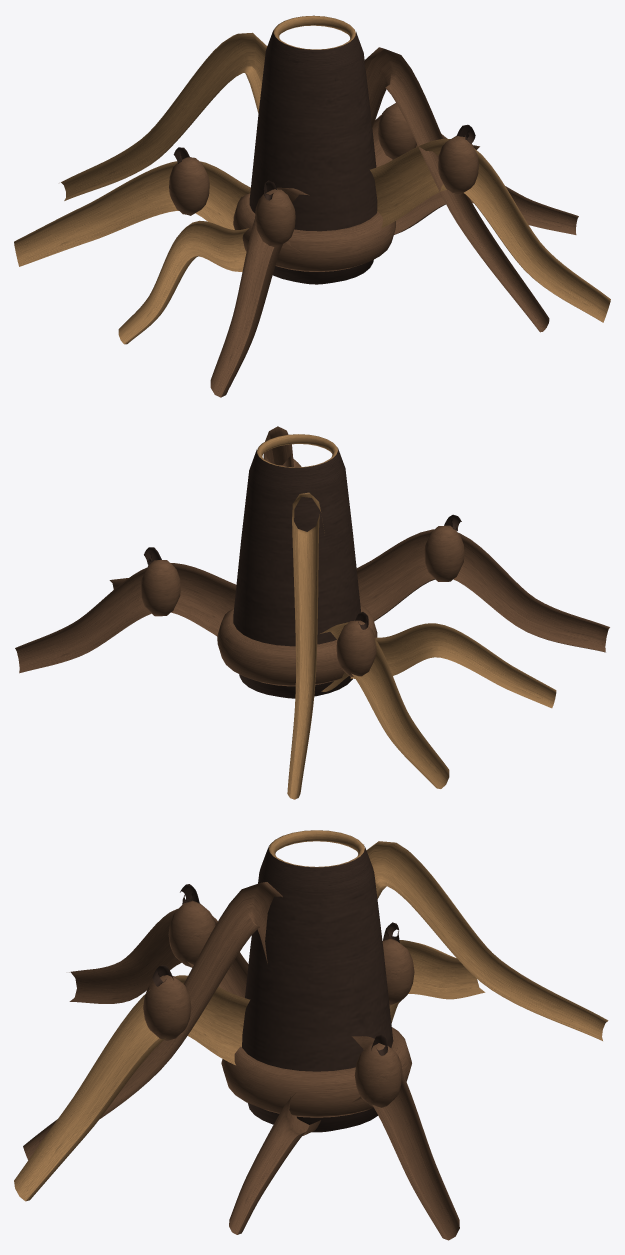
The model's file is mangrove_roots.glb.
The picture shows the model from 3 angles, top to bottom: view 1: azimuth 30°, elevation 25°; view 2: azimuth 150°, elevation 25°; view 3: azimuth 270°, elevation 25°; orthographic projection. The views are drawn at different scales.
Visible parts, largest first — view 1: mangrove_roots; view 2: mangrove_roots; view 3: mangrove_roots.
Boxes of the visible parts, left/top/right/bottom form: mangrove_roots: left=14, top=15, right=610, bottom=397; mangrove_roots: left=15, top=426, right=609, bottom=799; mangrove_roots: left=14, top=830, right=608, bottom=1240.
Bounding box in the file's own units: 2.8 × 1.4 × 2.8.
1 material, 1 textured.
